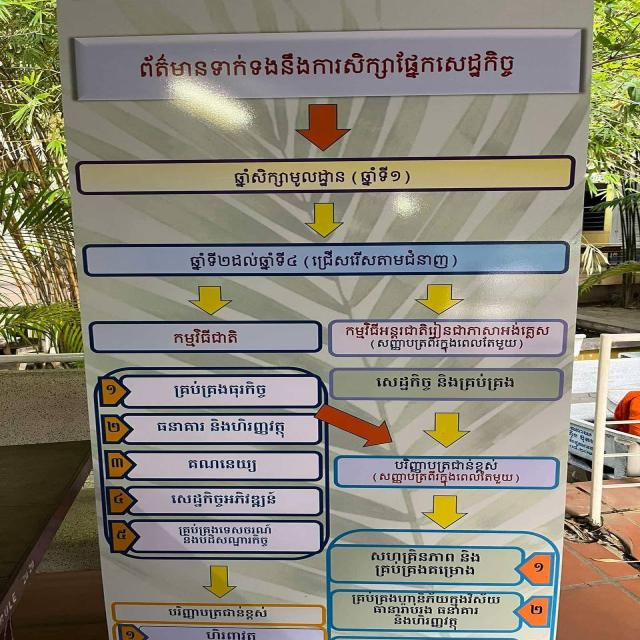1: (185, 248, 460, 274), (227, 166, 418, 190), (152, 416, 287, 440), (372, 372, 516, 394), (369, 547, 483, 564), (372, 603, 481, 616)
Yolov11kh: (137, 48, 517, 81), (341, 321, 555, 340), (369, 336, 525, 353), (348, 590, 503, 607), (371, 469, 522, 486), (169, 378, 269, 402), (167, 490, 281, 509), (165, 605, 273, 622), (167, 327, 247, 349), (374, 562, 478, 578), (394, 458, 499, 473), (175, 522, 275, 537), (185, 456, 261, 474), (181, 534, 271, 548), (389, 614, 461, 631)
